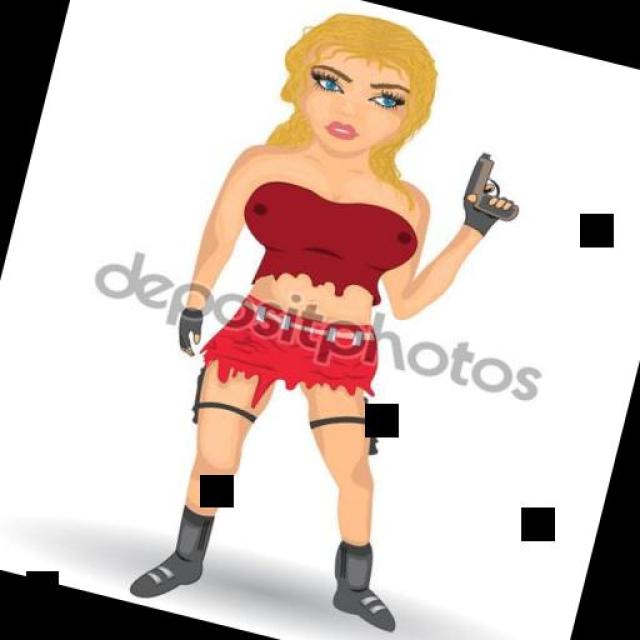gun: (458, 146, 530, 225)
